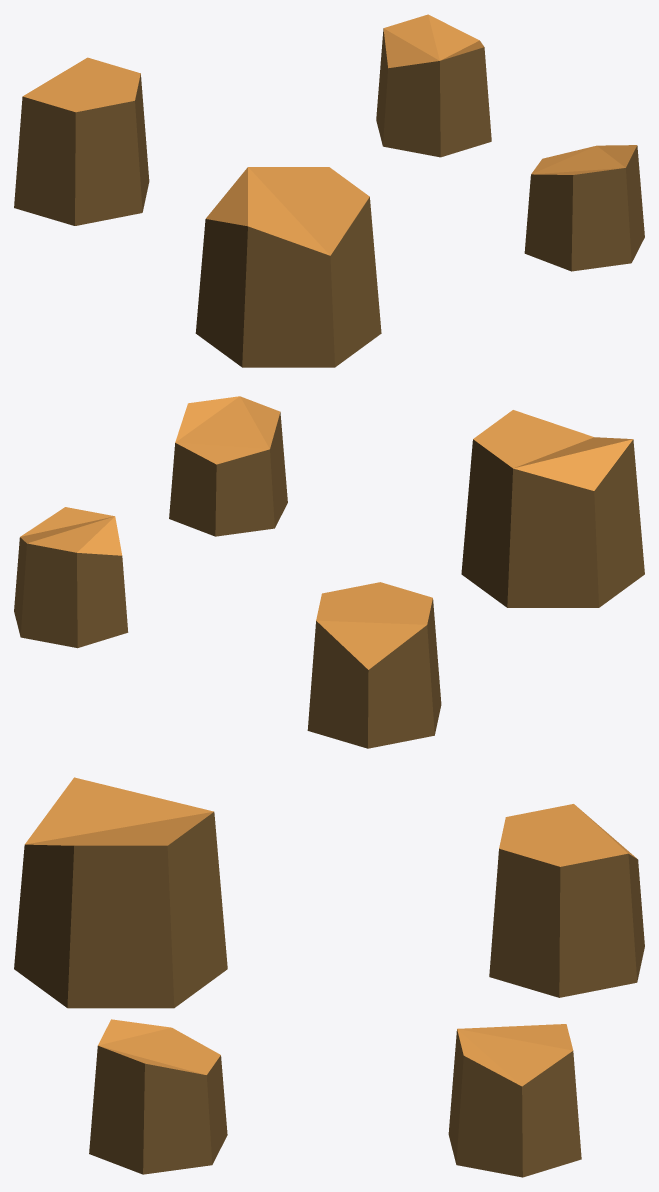
The model's file is resource_tree1_empty.fbx.
3 views of the same model, one above another, from view 1: azimuth 30°, elevation 25°; view 2: azimuth 150°, elevation 25°; view 3: azimuth 270°, elevation 25° (orthographic). The views are drawn at different scales.
Visible parts, largest first — view 1: resource_tree1_empty; view 2: resource_tree1_empty; view 3: resource_tree1_empty.
Boxes of the visible parts, box(x1,y1,x2,y2) form: resource_tree1_empty: box(14, 14, 644, 367); resource_tree1_empty: box(14, 396, 644, 748); resource_tree1_empty: box(14, 777, 644, 1177).
Bounding box in the file's own units: 98.12 × 28.62 × 104.
